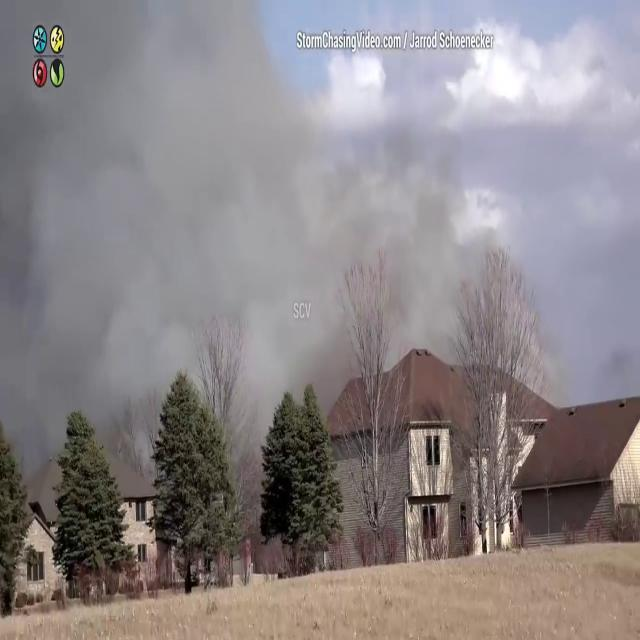Smoke: (2, 0, 584, 451)
